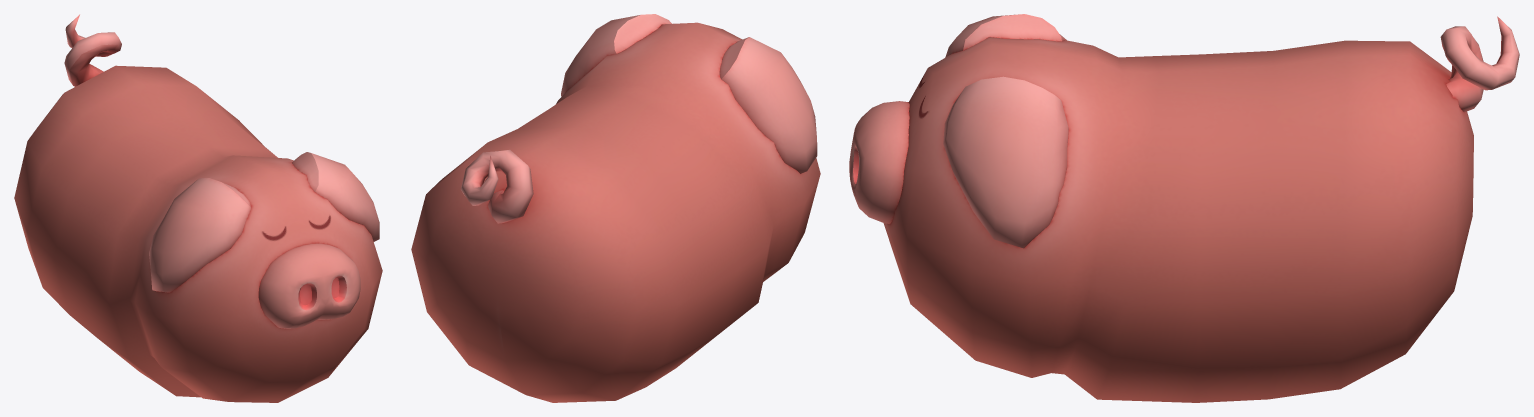
File: Farm_Animal_Pig_02.fbx
3 views of the same model, side by side, from view 1: azimuth 30°, elevation 25°; view 2: azimuth 150°, elevation 25°; view 3: azimuth 270°, elevation 25° (orthographic). The views are drawn at different scales.
Visible parts, largest first — view 1: Farm_Animal_Pig_02; view 2: Farm_Animal_Pig_02; view 3: Farm_Animal_Pig_02.
Part boxes in pixels (bbox=[...]): Farm_Animal_Pig_02: bbox=[14, 14, 382, 402]; Farm_Animal_Pig_02: bbox=[411, 14, 820, 402]; Farm_Animal_Pig_02: bbox=[849, 14, 1519, 402].
Size of the model in its own units: 64.4 by 75.07 by 123.
